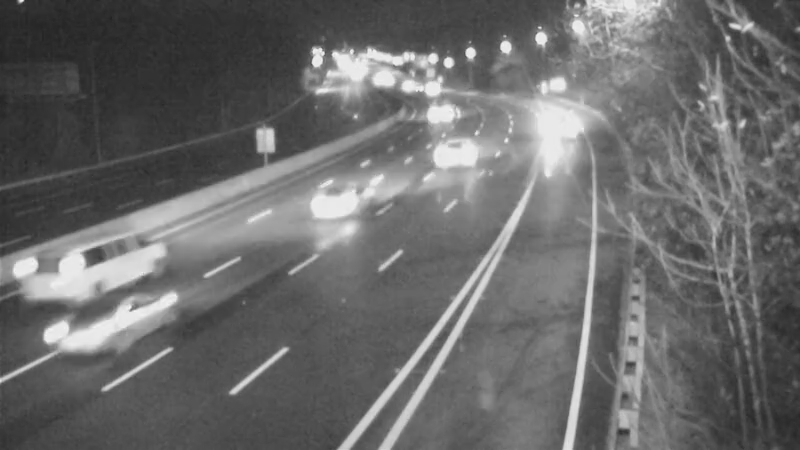vehicle: (33, 275, 143, 385), (415, 115, 495, 195), (296, 166, 376, 246), (14, 239, 94, 319), (380, 61, 430, 111), (394, 62, 444, 112), (408, 64, 458, 114), (421, 87, 471, 137), (537, 102, 587, 152)
